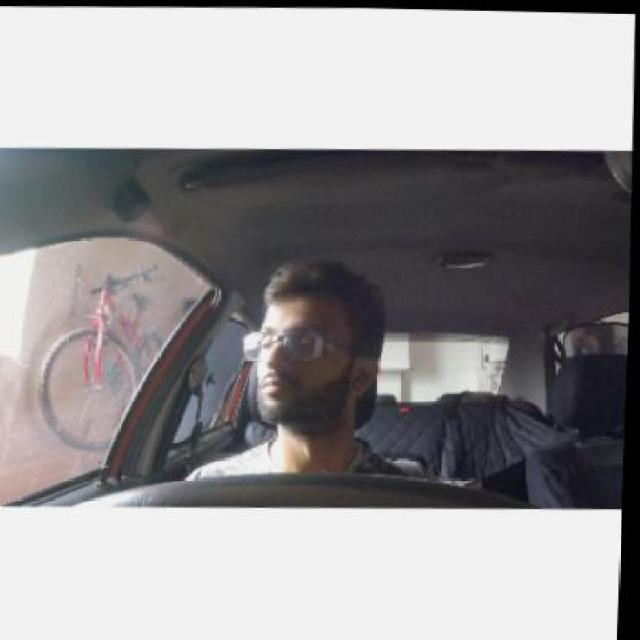drowsy: (226, 248, 397, 452)
